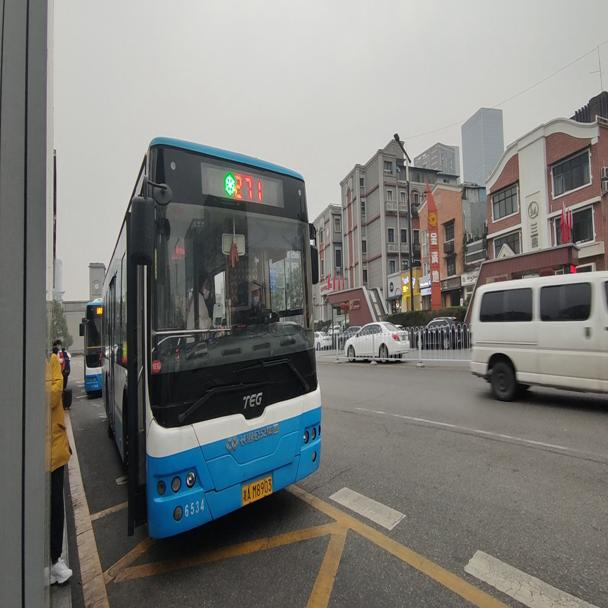bus: (99, 132, 322, 541), (76, 292, 104, 391)
screen: (234, 171, 264, 202)
